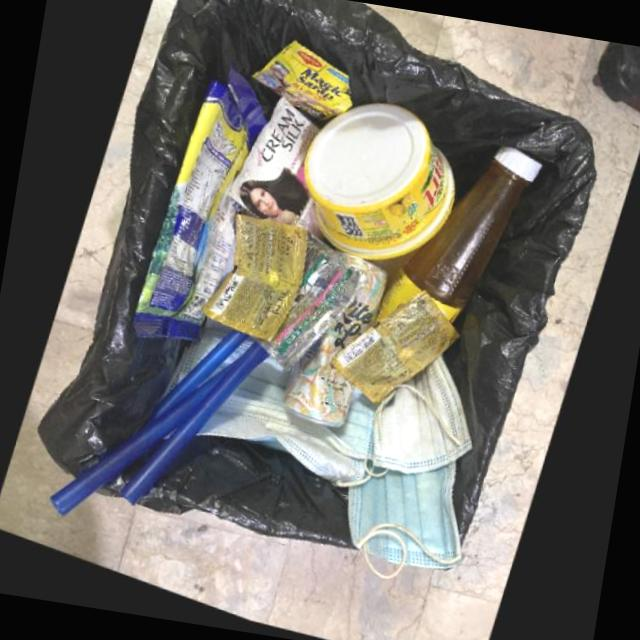bao_bi_thuc_pham: (129, 74, 261, 351)
chai_thuy_tinh: (372, 150, 538, 329)
goi_nhua_nho: (245, 238, 365, 379), (328, 295, 457, 411), (197, 222, 303, 349), (225, 104, 314, 233), (246, 48, 347, 128)
hop_nhua: (298, 109, 450, 266)
khau_trang: (212, 364, 374, 465), (346, 465, 461, 584), (194, 420, 370, 493), (369, 359, 471, 480), (155, 327, 228, 412)
nhom: (279, 256, 384, 434)
ong_hut_nhua: (47, 368, 232, 528), (117, 350, 266, 516), (136, 338, 245, 441)
